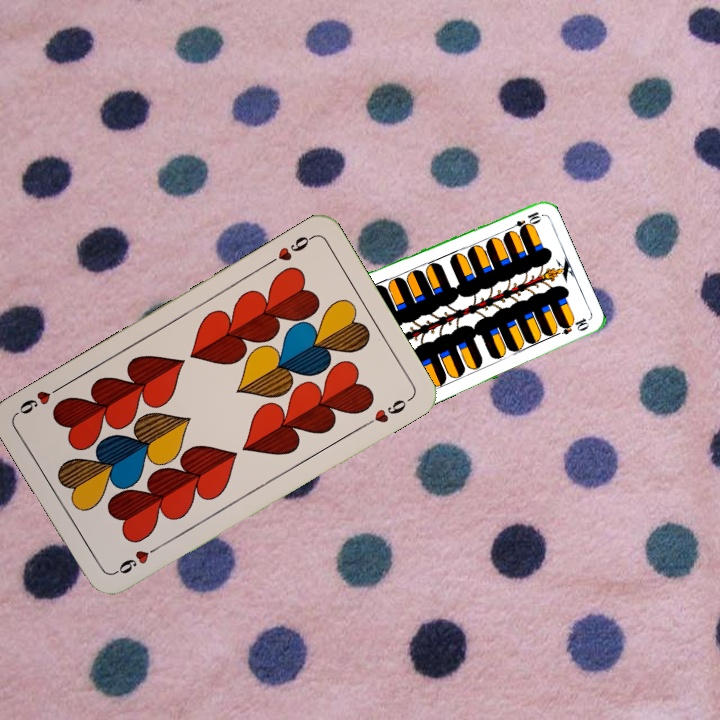E10: (504, 207, 543, 234)
H9: (263, 231, 316, 268), (110, 541, 163, 577)
